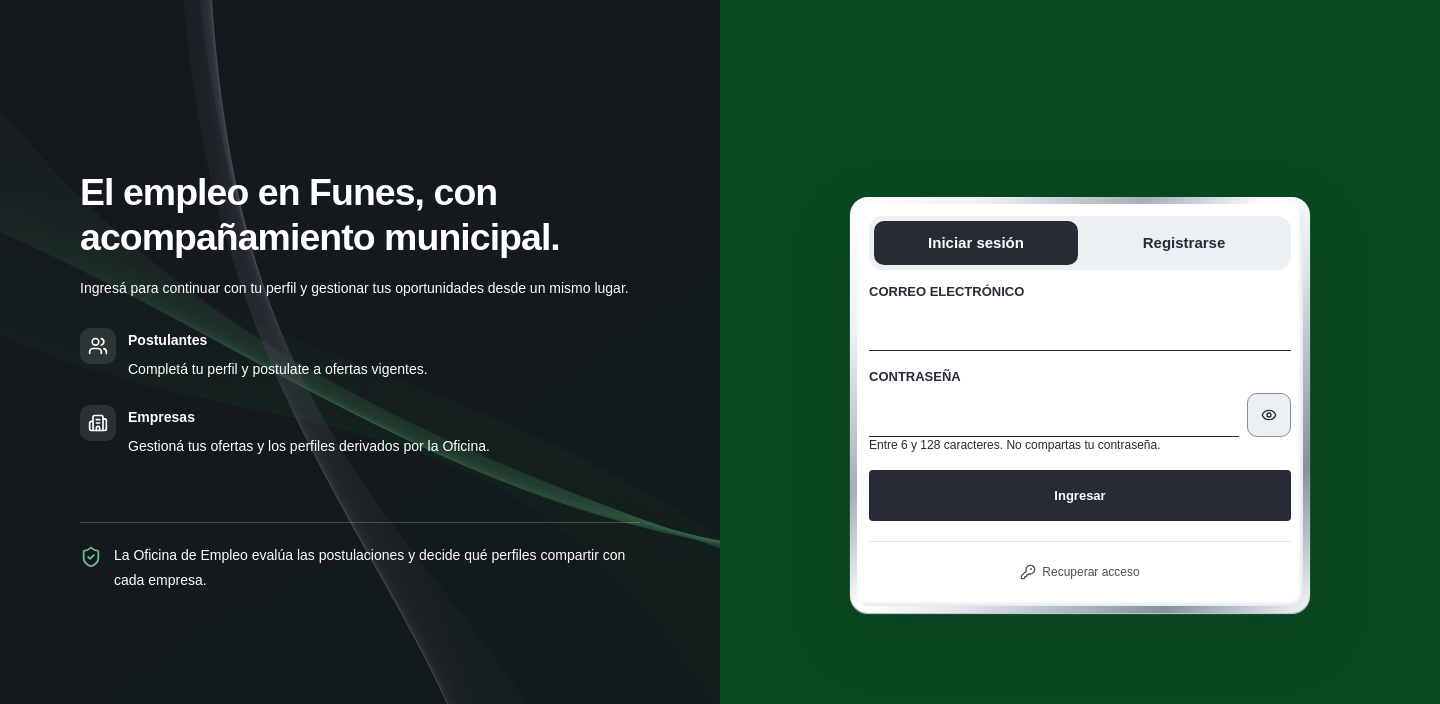
Test: Home access panel › offers recovery below a separator after sign-in, outside the form and only in login mode
What coordinates should you click on to do the following:
click the button "Registrarse"
I would click on:
 (1184, 243)
Its box is [1082,221,1286,265].
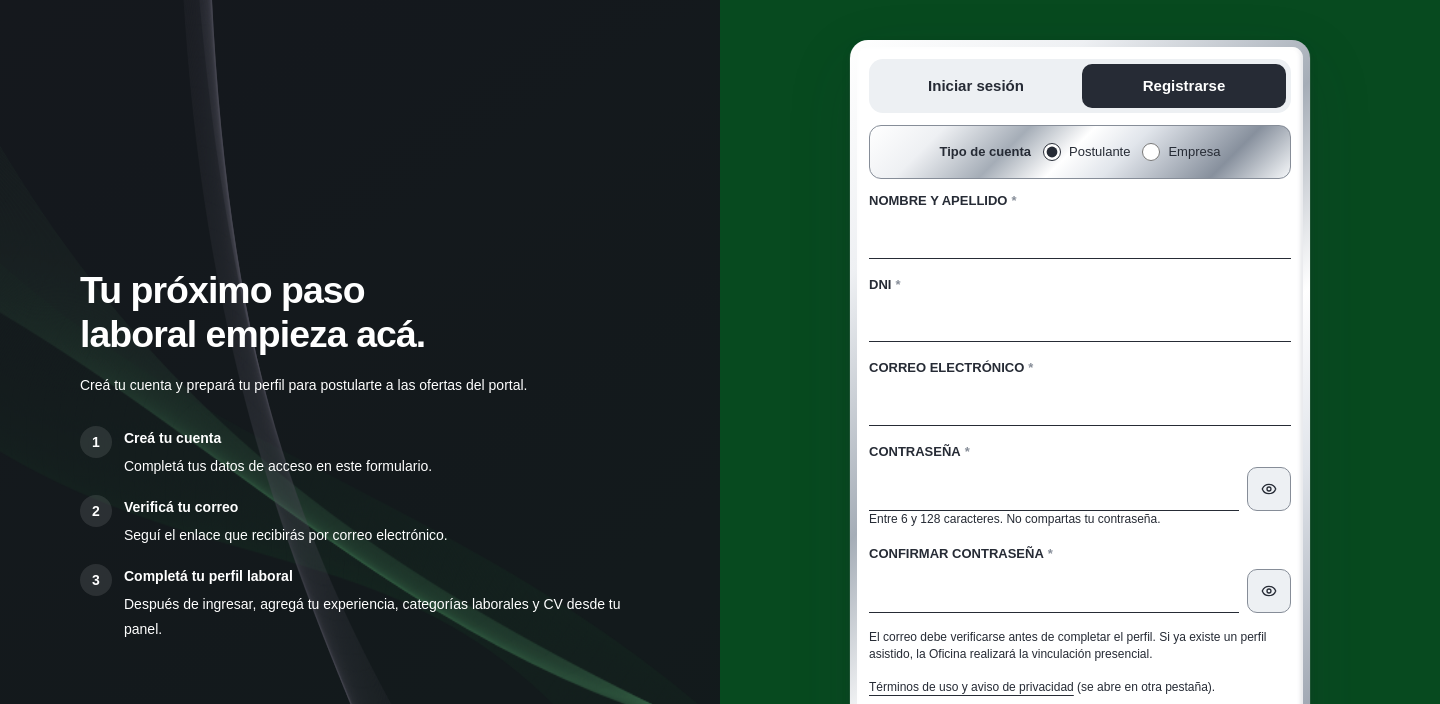
expect the link "Recuperar acceso" is gone: met
What coordinates should you click on to do the following:
click the radio button labelled "Empresa"
I would click on:
 (1152, 152)
Its box is [1142,143,1160,161].
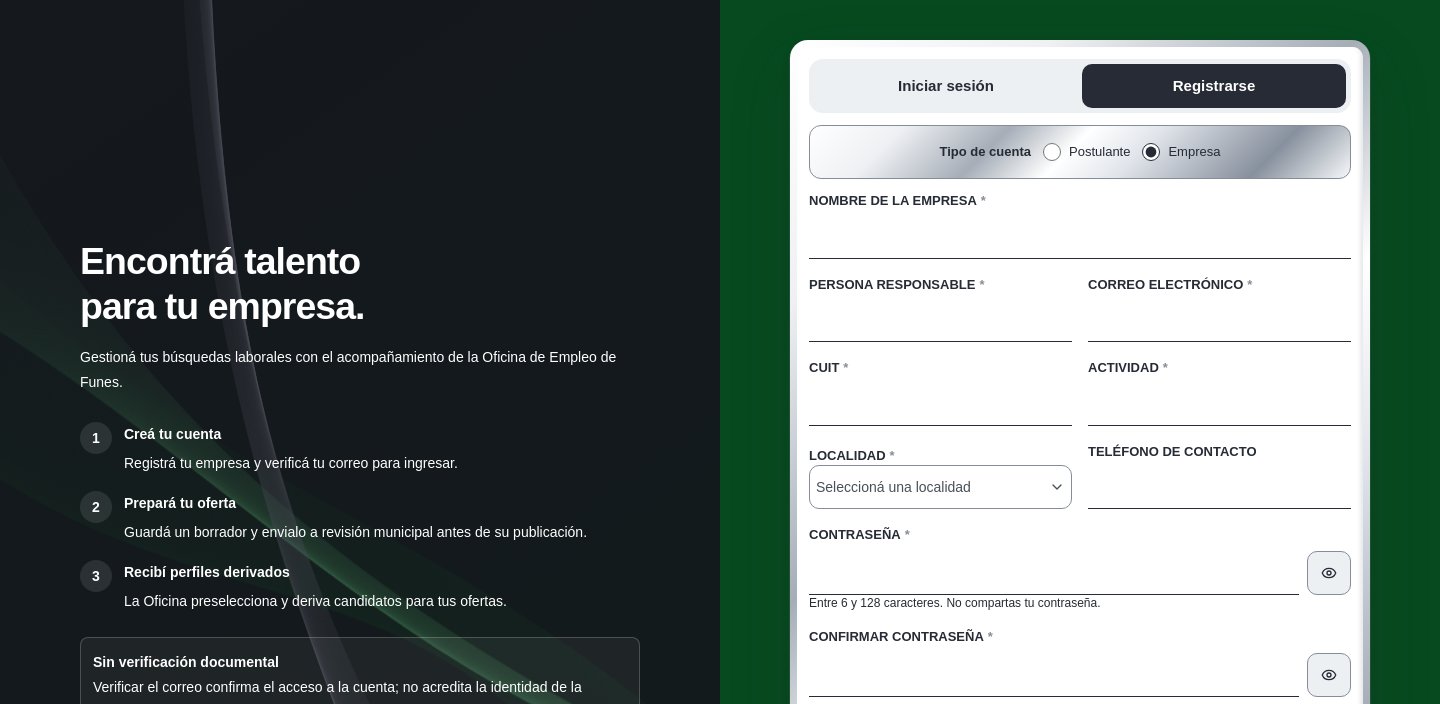
expect the link "Recuperar acceso" is not shown: met
What coordinates should you click on to do the following:
click the button "Iniciar sesión"
I would click on:
 (946, 86)
Its box is [814,64,1078,108].
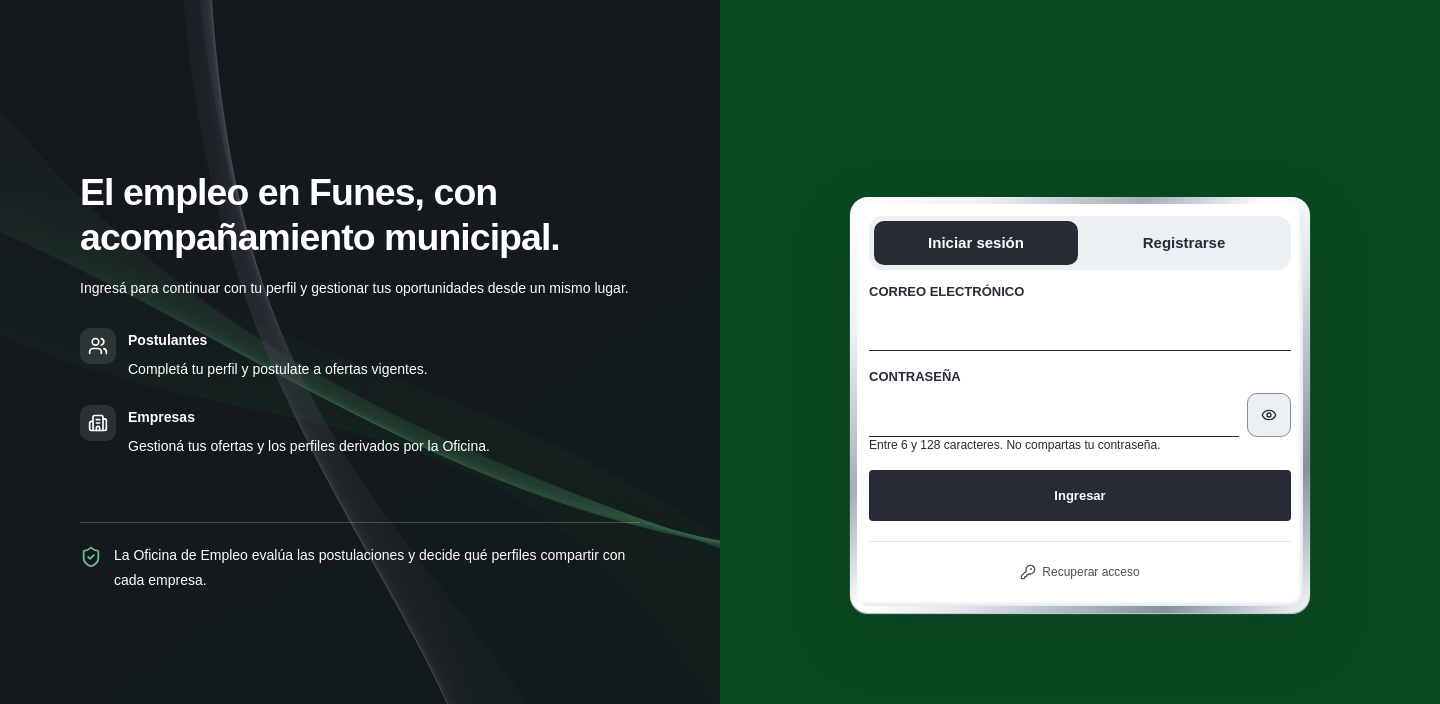
expect the link "Recuperar acceso" is shown: met, box [1020,564,1140,580]
